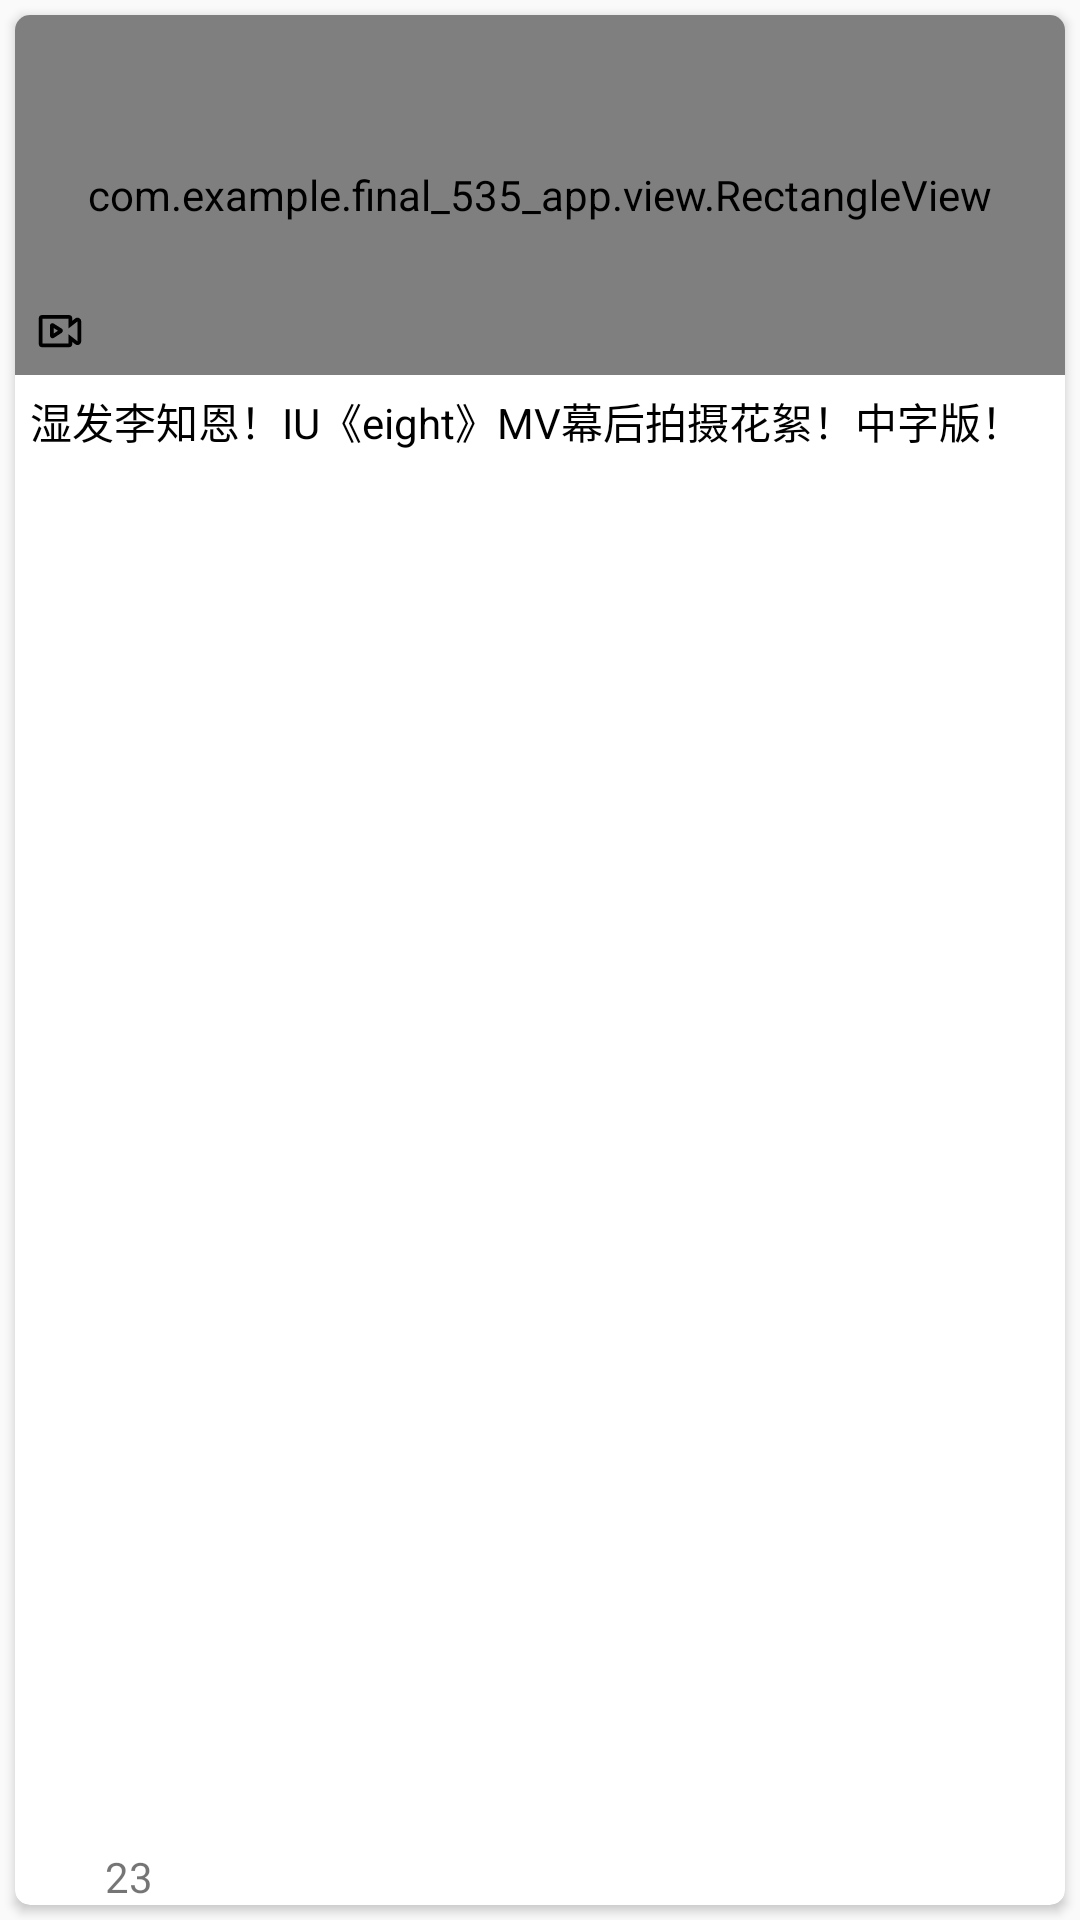

Icons on this 1080px x 1920px Android screen, each with the point to tap as (x=x, y=y):
video: (x=60, y=331)
